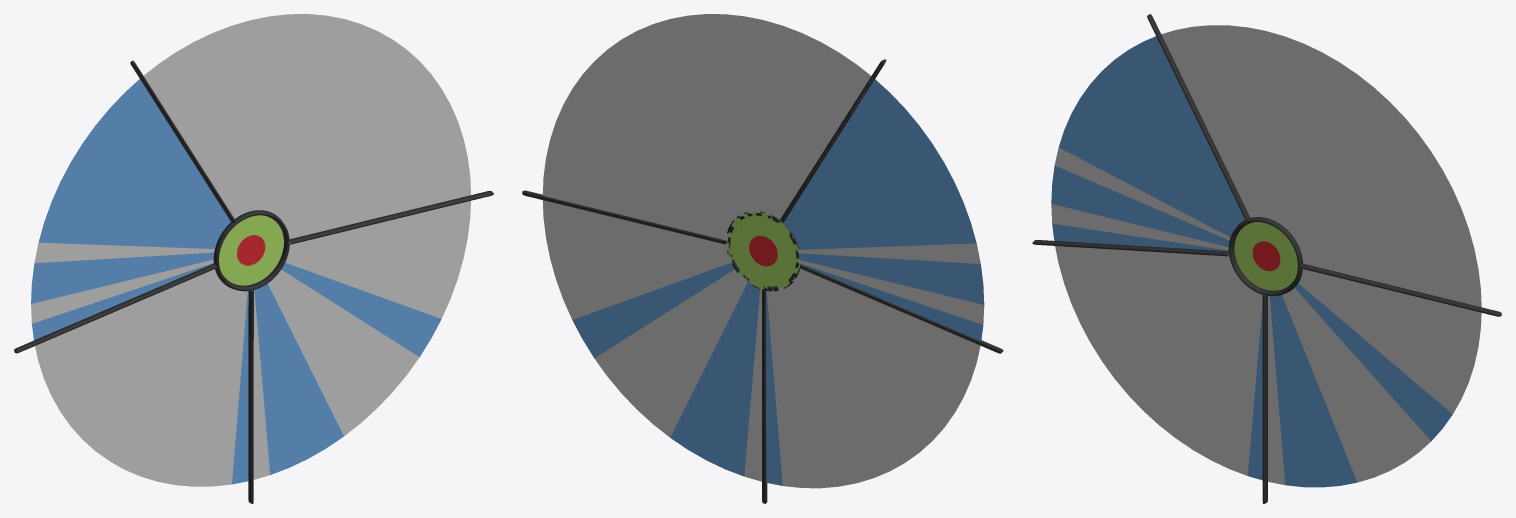
The model's file is Level_01Mesh.fbx.
The picture shows the model from 3 angles, left to right: view 1: azimuth 30°, elevation 25°; view 2: azimuth 150°, elevation 25°; view 3: azimuth 330°, elevation 25°; orthographic projection. The views are drawn at different scales.
Parts seen in each view (by area): view 1: L1_A, L1_B, L1_C, L1_D, L1_DarkLine.003, L1_BullsEye_OR, L1_BullsEye; view 2: L1_A, L1_B, L1_C, L1_D, L1_DarkLine.003, L1_BullsEye_OR, L1_BullsEye; view 3: L1_A, L1_B, L1_C, L1_D, L1_DarkLine.003, L1_BullsEye_OR, L1_BullsEye.
Part boxes in pixels (box(x1,y1,x2,y2)): L1_A: box(144, 14, 470, 238); L1_B: box(251, 201, 470, 479); L1_C: box(35, 269, 248, 486); L1_D: box(31, 79, 230, 340); L1_DarkLine.003: box(14, 60, 493, 503); L1_BullsEye_OR: box(219, 215, 283, 285); L1_BullsEye: box(237, 235, 265, 265); L1_A: box(542, 14, 872, 241); L1_B: box(542, 200, 762, 481); L1_C: box(766, 266, 980, 488); L1_D: box(782, 79, 984, 341); L1_DarkLine.003: box(522, 59, 1003, 503); L1_BullsEye_OR: box(727, 212, 798, 289); L1_BullsEye: box(749, 236, 777, 266); L1_A: box(1161, 25, 1481, 307); L1_B: box(1268, 269, 1481, 487); L1_C: box(1055, 246, 1265, 480); L1_D: box(1051, 36, 1245, 253); L1_DarkLine.003: box(1032, 14, 1501, 503); L1_BullsEye_OR: box(1234, 222, 1297, 290); L1_BullsEye: box(1252, 241, 1280, 271).
Size of the model in its own units: 219 by 211 by 2.01.
